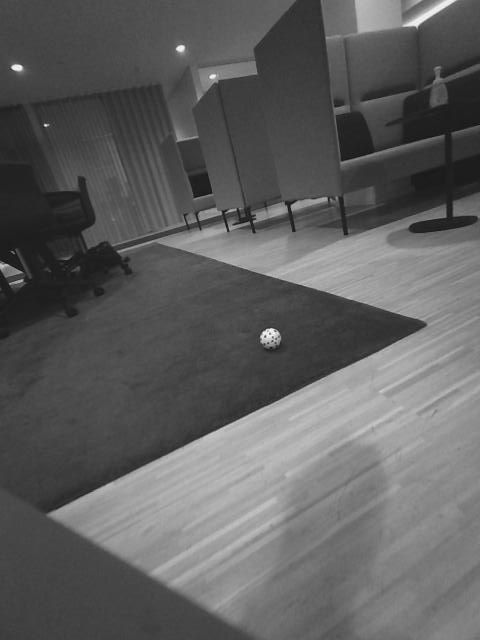dogtoy: (252, 321, 287, 355)
